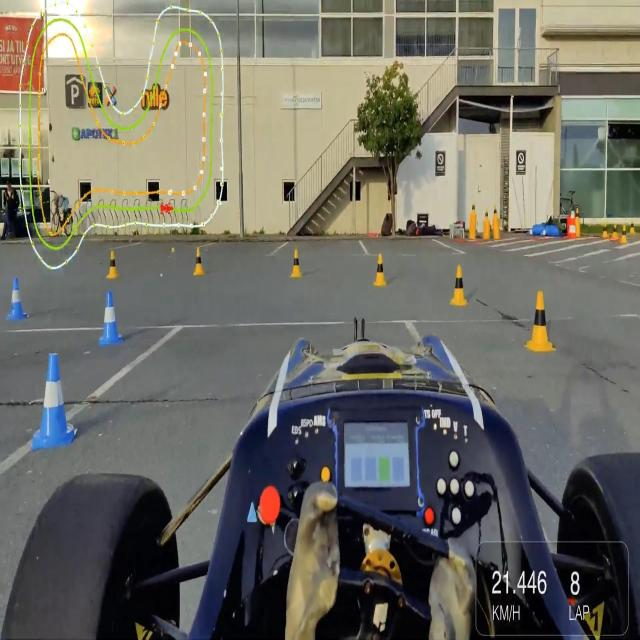blue_cone: (32, 352, 78, 448), (98, 290, 124, 346), (7, 276, 29, 321)
large_orange_cone: (567, 209, 578, 238)
yellow_cone: (526, 290, 556, 350), (450, 265, 468, 307), (374, 252, 387, 286), (106, 250, 120, 280), (290, 250, 302, 279), (194, 247, 204, 278), (620, 225, 628, 244), (612, 223, 619, 240), (574, 208, 581, 225), (602, 221, 608, 237), (492, 203, 498, 219), (630, 219, 636, 234), (471, 200, 476, 215), (484, 208, 489, 222)
